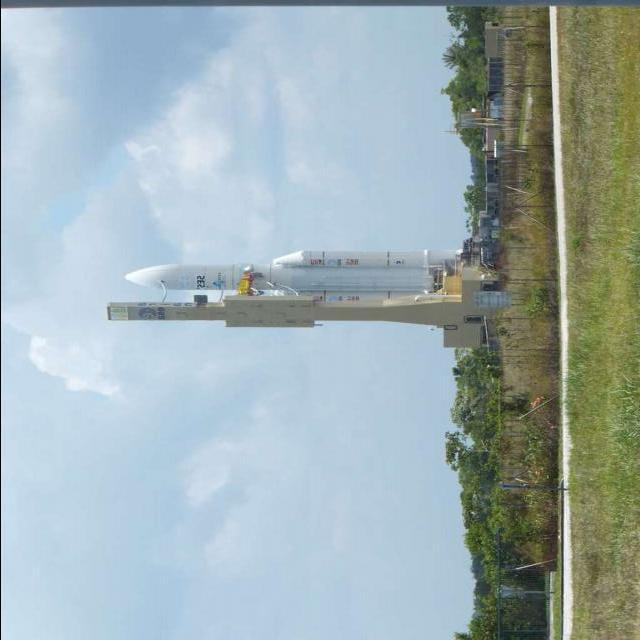missile: (120, 266, 455, 297), (268, 245, 466, 273)
